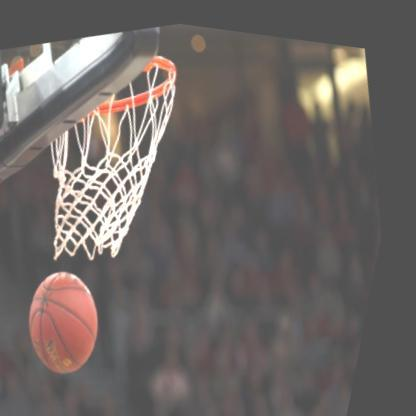basketball: (21, 256, 132, 382)
rim: (2, 29, 243, 287)
